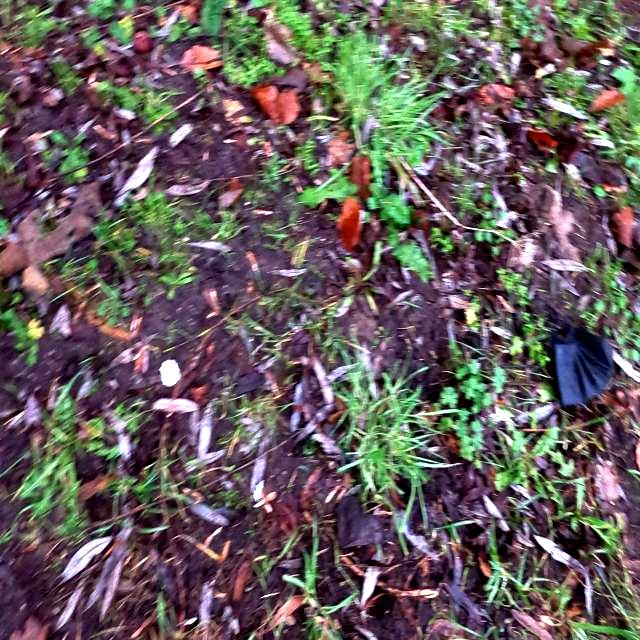Mask: (538, 304, 618, 404)
